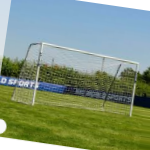goals: (9, 39, 140, 121)
